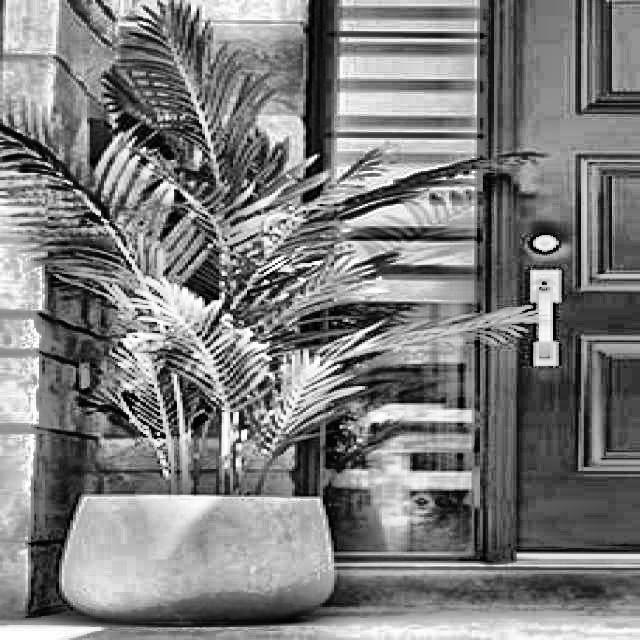plants: (0, 7, 455, 633)
